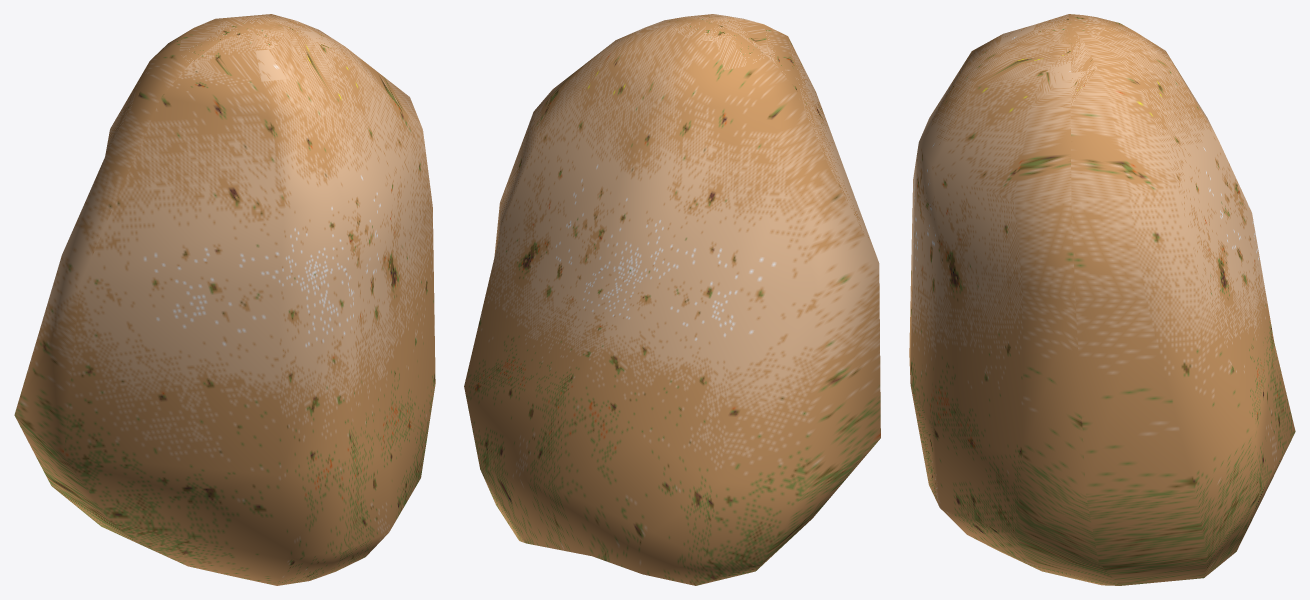
The model's file is potato.fbx.
The picture shows the model from 3 angles, left to right: view 1: azimuth 30°, elevation 25°; view 2: azimuth 150°, elevation 25°; view 3: azimuth 270°, elevation 25°; orthographic projection. The views are drawn at different scales.
Parts seen in each view (by area): view 1: pSphere14; view 2: pSphere14; view 3: pSphere14.
Part boxes in pixels (x1,y1,x2,y2): pSphere14: (14,14,435,585); pSphere14: (464,14,880,585); pSphere14: (909,14,1295,585).
Size of the model in its own units: 5.92 by 8.33 by 5.57.
1 material, 1 textured.
